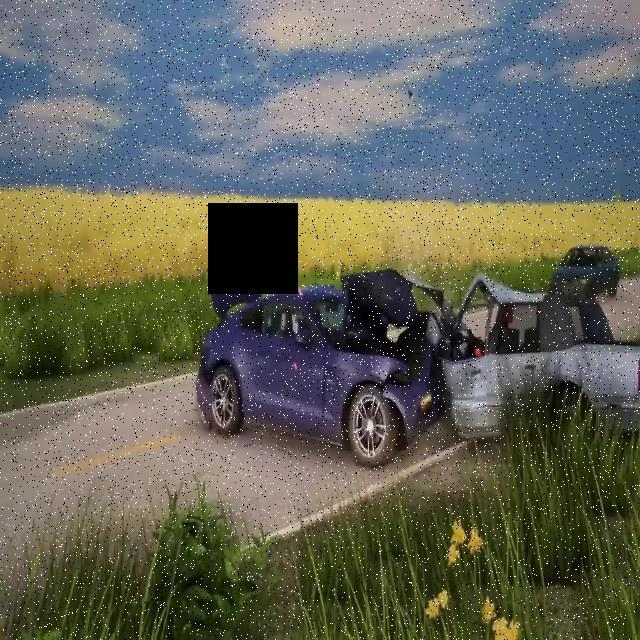moderate: (190, 245, 640, 477)
